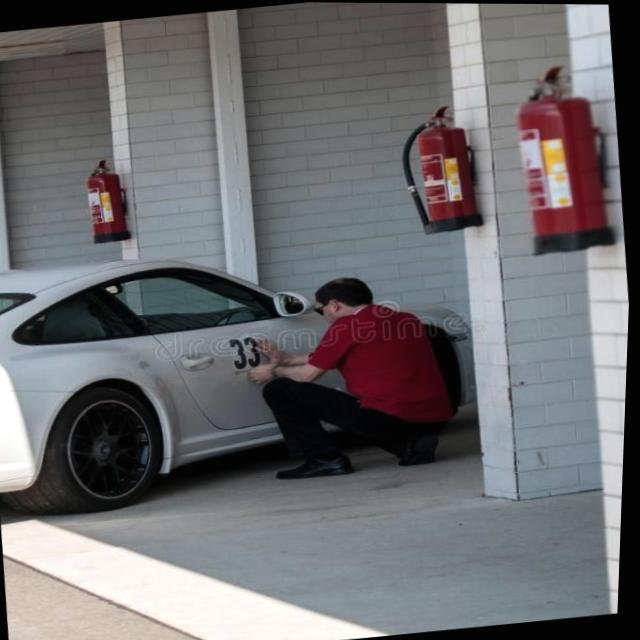FireExtinguisher: (507, 57, 628, 258), (392, 98, 495, 238), (78, 154, 141, 246)
